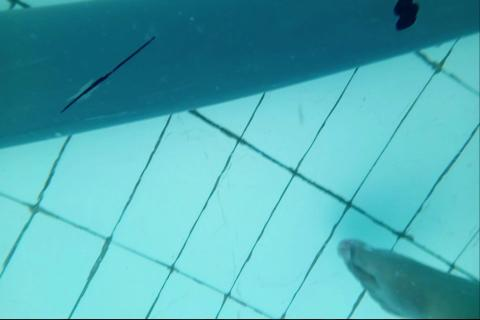kebocoran: (391, 0, 421, 33)
keretakan: (60, 34, 156, 114)
